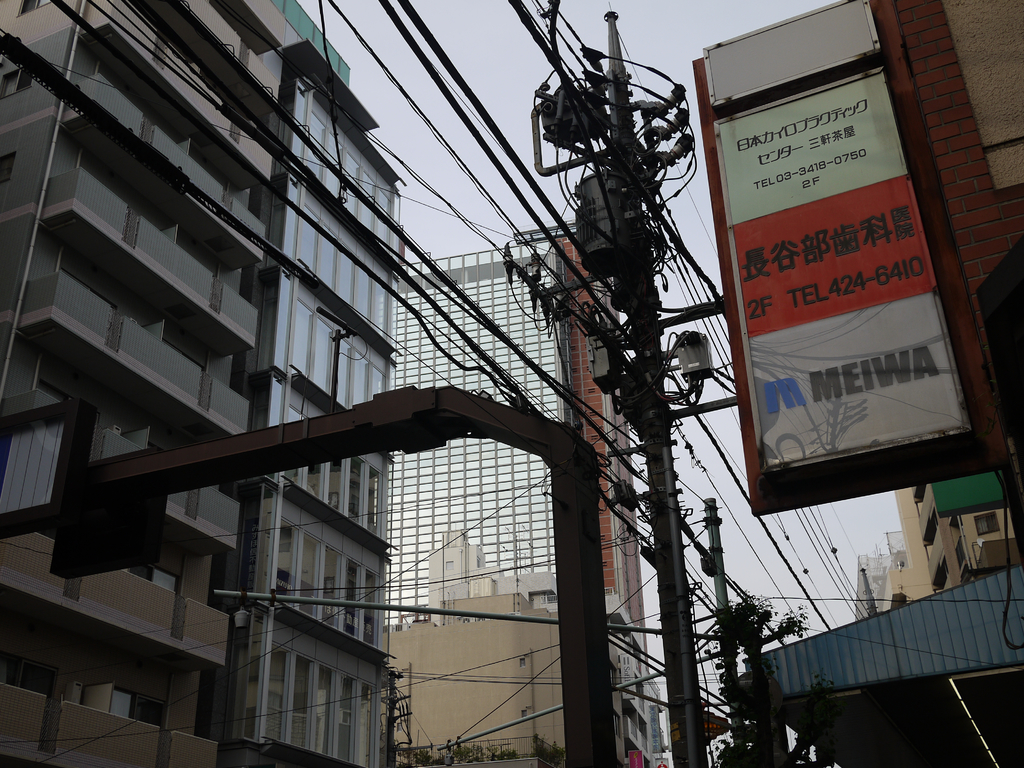cantilever: (686, 1, 1004, 523)
